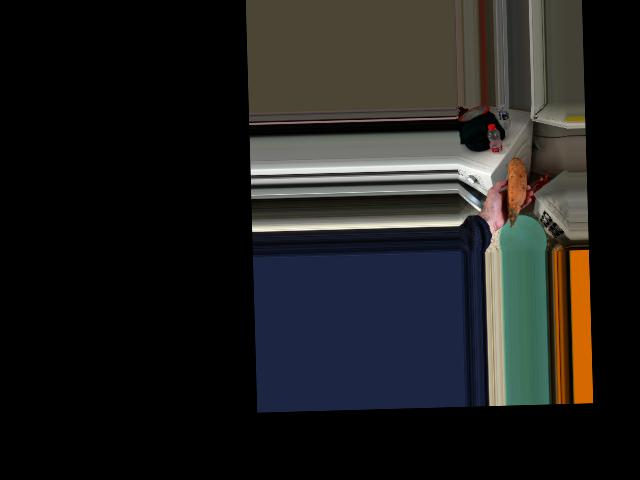sweet_potato: (504, 163, 523, 223)
